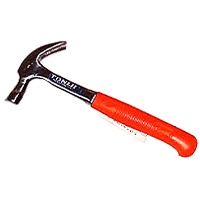hammer: (6, 39, 198, 159)
